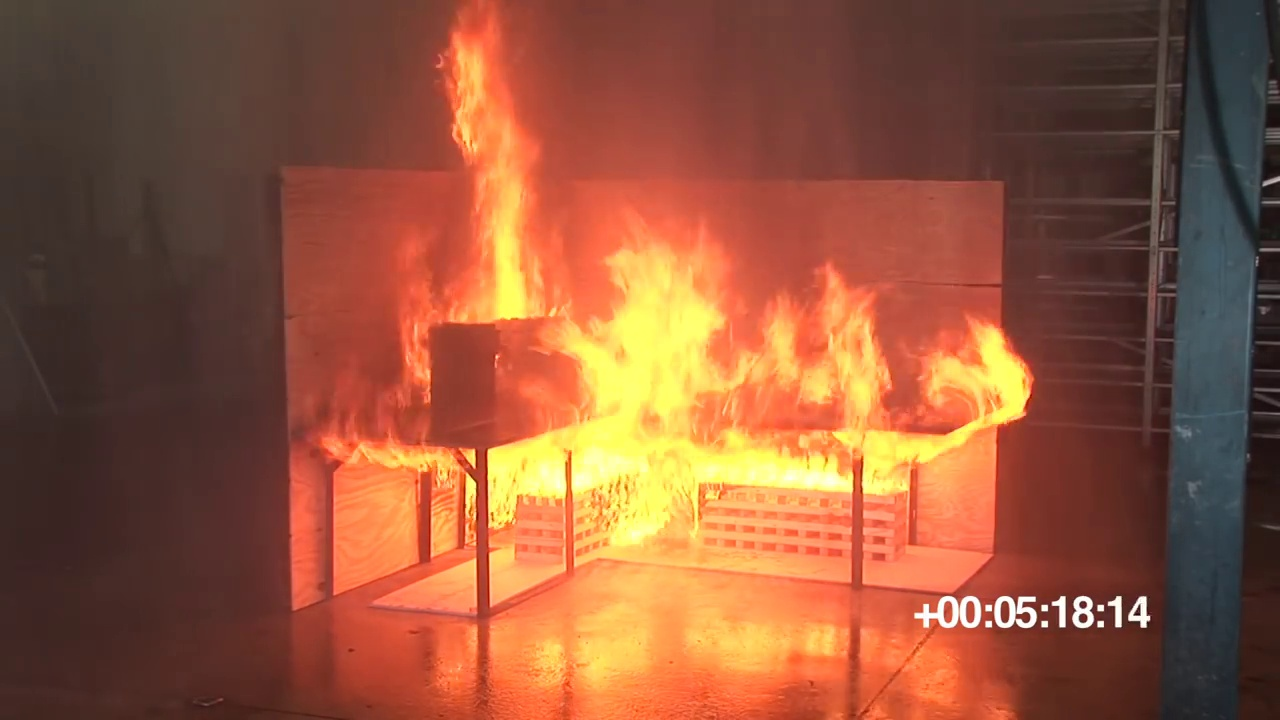fire: (424, 6, 546, 322), (585, 199, 729, 423), (500, 423, 907, 498), (743, 264, 894, 423), (914, 314, 1028, 427)
